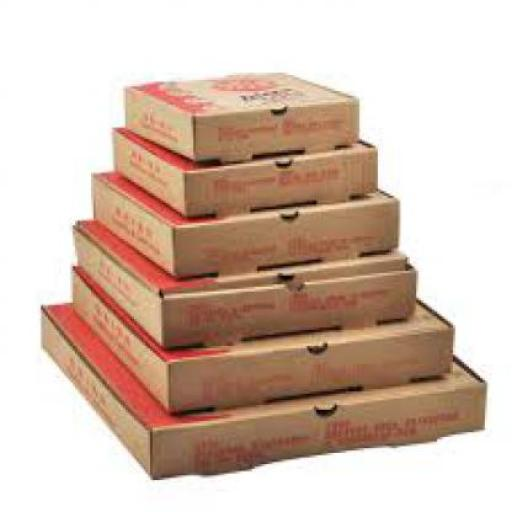cardboard: (37, 300, 482, 478), (69, 262, 450, 414), (70, 217, 416, 348), (89, 166, 396, 278), (111, 125, 376, 216), (122, 68, 358, 162)
